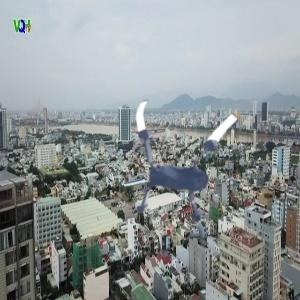drone: (107, 88, 262, 243)
